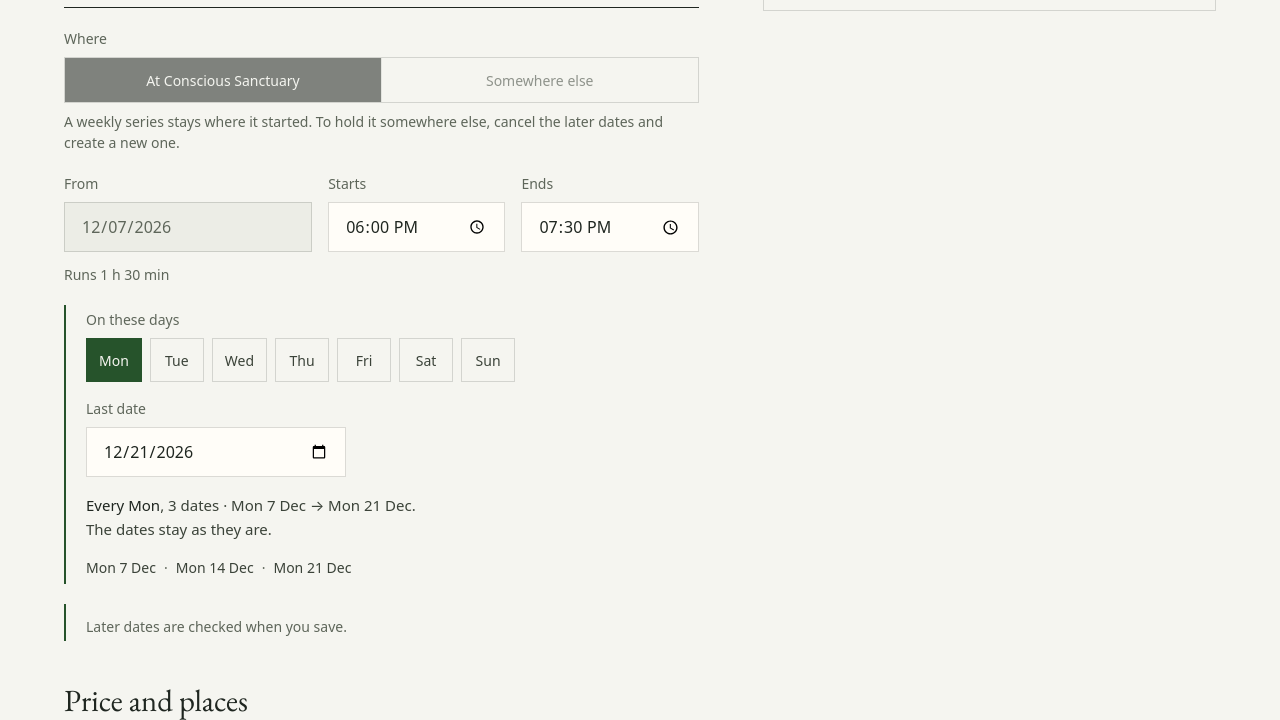
Test case: adding Thursdays: new dates go to our team first; the rest keep their places
(page scrolled)
Step 1. Click the button "Thu" → (302, 360), box [275,338,329,382]
(page scrolled)
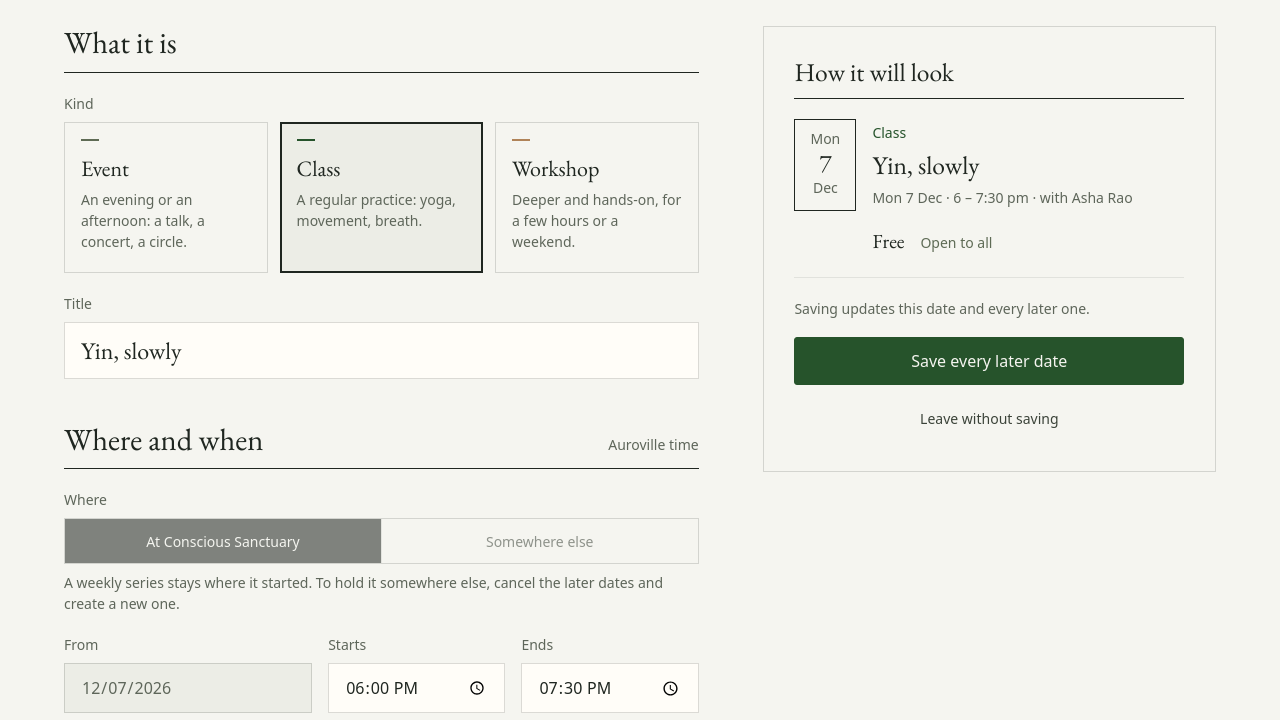
Step 2. Click the button "Save every later date" → (989, 361), box [794,337,1184,385]
(page scrolled)
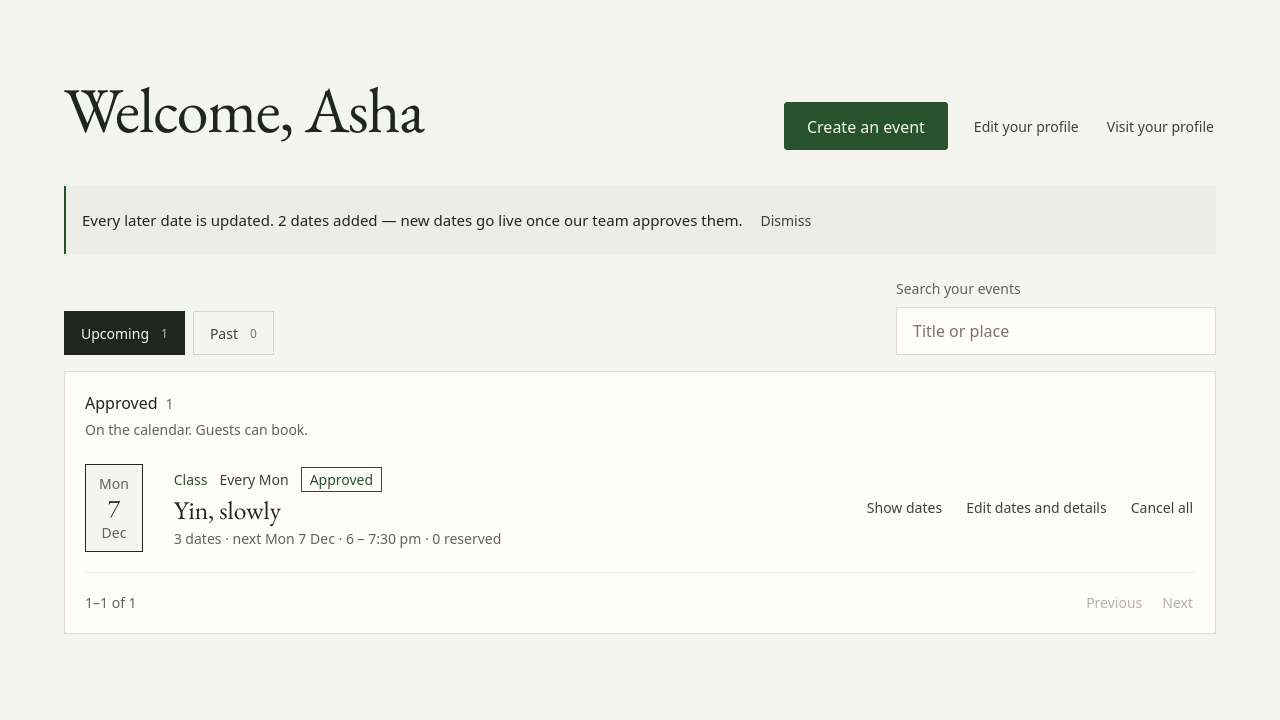
Check: the message with class "sn-notice" shows "2 dates added — new dates go live once our team approves them.", box [82,210,742,230]
